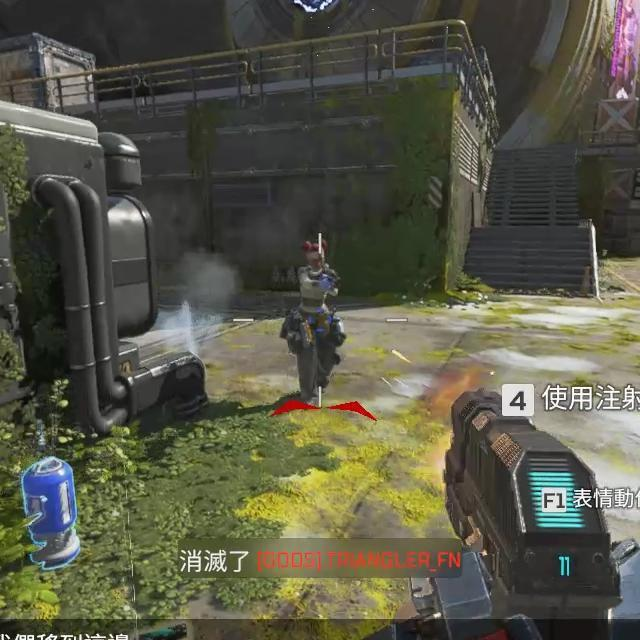avatar: (277, 242, 348, 406)
